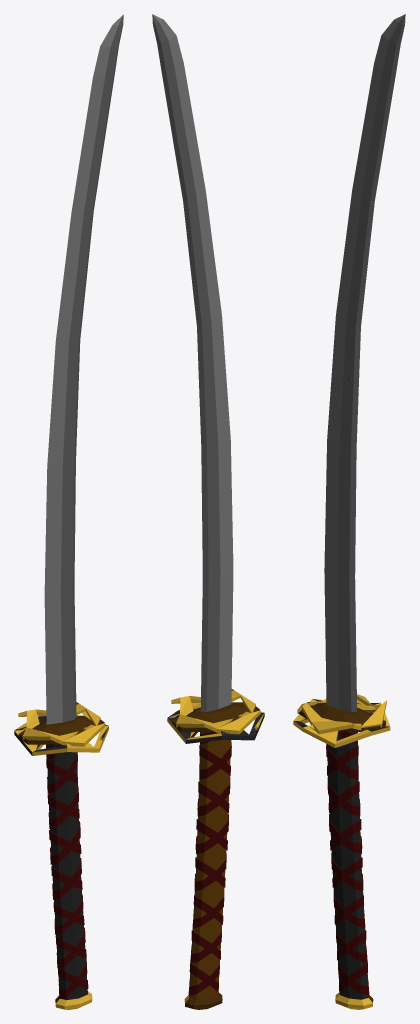
Rendered from Katana.fbx.
3 renders of one model, left to right at view 1: azimuth 30°, elevation 25°; view 2: azimuth 210°, elevation 25°; view 3: azimuth 330°, elevation 25°, orthographic. The views are drawn at different scales.
Parts seen in each view (by area): view 1: Katana_4, Katana_1, Katana_5, Katana_3; view 2: Katana_5, Katana_1, Katana_3, Katana_2, Katana_4; view 3: Katana_4, Katana_1, Katana_5.
Part boxes in pixels (box(x1,y1,x2,y2)): Katana_4: box(14, 14, 123, 1009); Katana_1: box(18, 211, 104, 1003); Katana_5: box(18, 702, 105, 994); Katana_3: box(14, 716, 108, 992); Katana_5: box(152, 15, 260, 995); Katana_1: box(153, 14, 259, 1009); Katana_3: box(152, 14, 264, 993); Katana_2: box(154, 16, 262, 994); Katana_4: box(167, 703, 264, 1002); Katana_4: box(293, 14, 405, 1009); Katana_1: box(297, 190, 385, 1002); Katana_5: box(297, 694, 386, 991).
Bounding box in the file's own units: 14.37 × 133 × 11.09.
